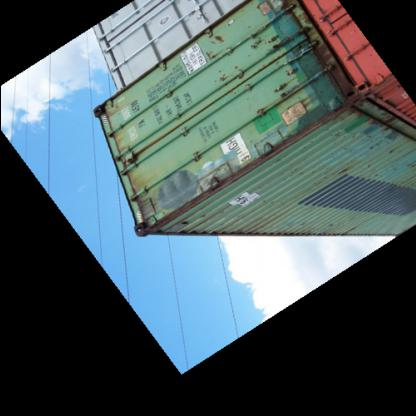Damage: (222, 104, 346, 180), (262, 2, 347, 102), (131, 176, 243, 236)
